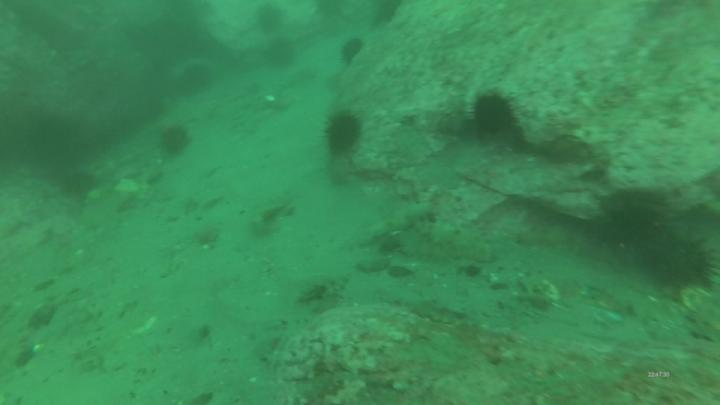echinus: (640, 225, 720, 295), (468, 88, 522, 141), (320, 110, 366, 157), (57, 170, 103, 200), (176, 61, 219, 93), (157, 122, 193, 160), (253, 3, 287, 37), (263, 41, 298, 74), (338, 35, 367, 67), (371, 1, 403, 27), (313, 1, 347, 20)
holothurian: (359, 197, 440, 248), (417, 219, 503, 265), (573, 276, 638, 318), (410, 295, 473, 329), (515, 220, 582, 251)
